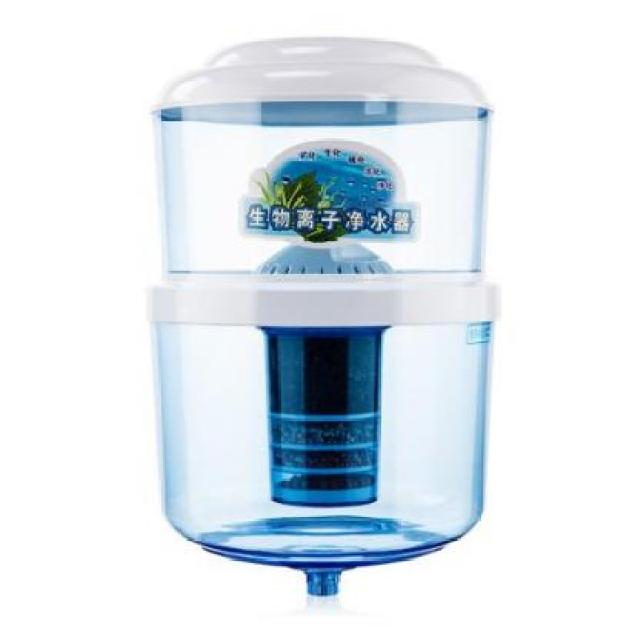coolerbottle: (143, 37, 503, 608)
